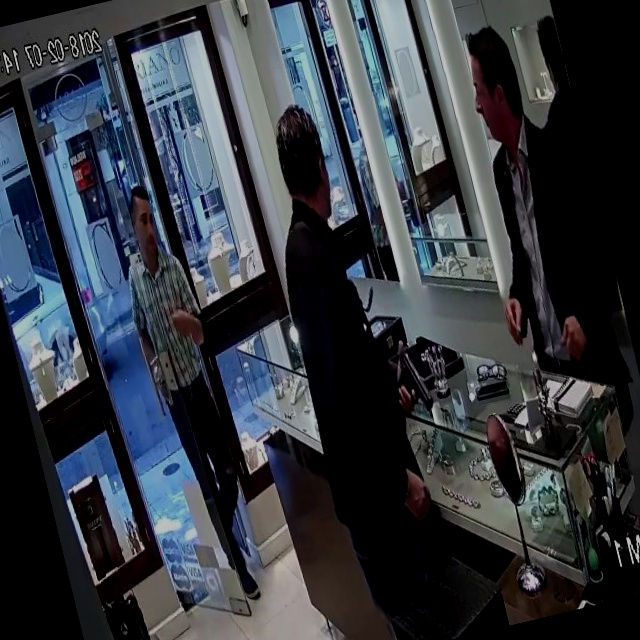gun: (382, 325, 446, 431)
